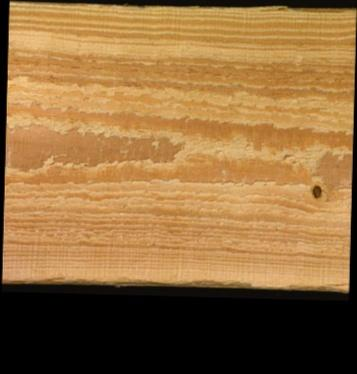dry_knot: (307, 181, 321, 200)
wave: (43, 268, 348, 290)
